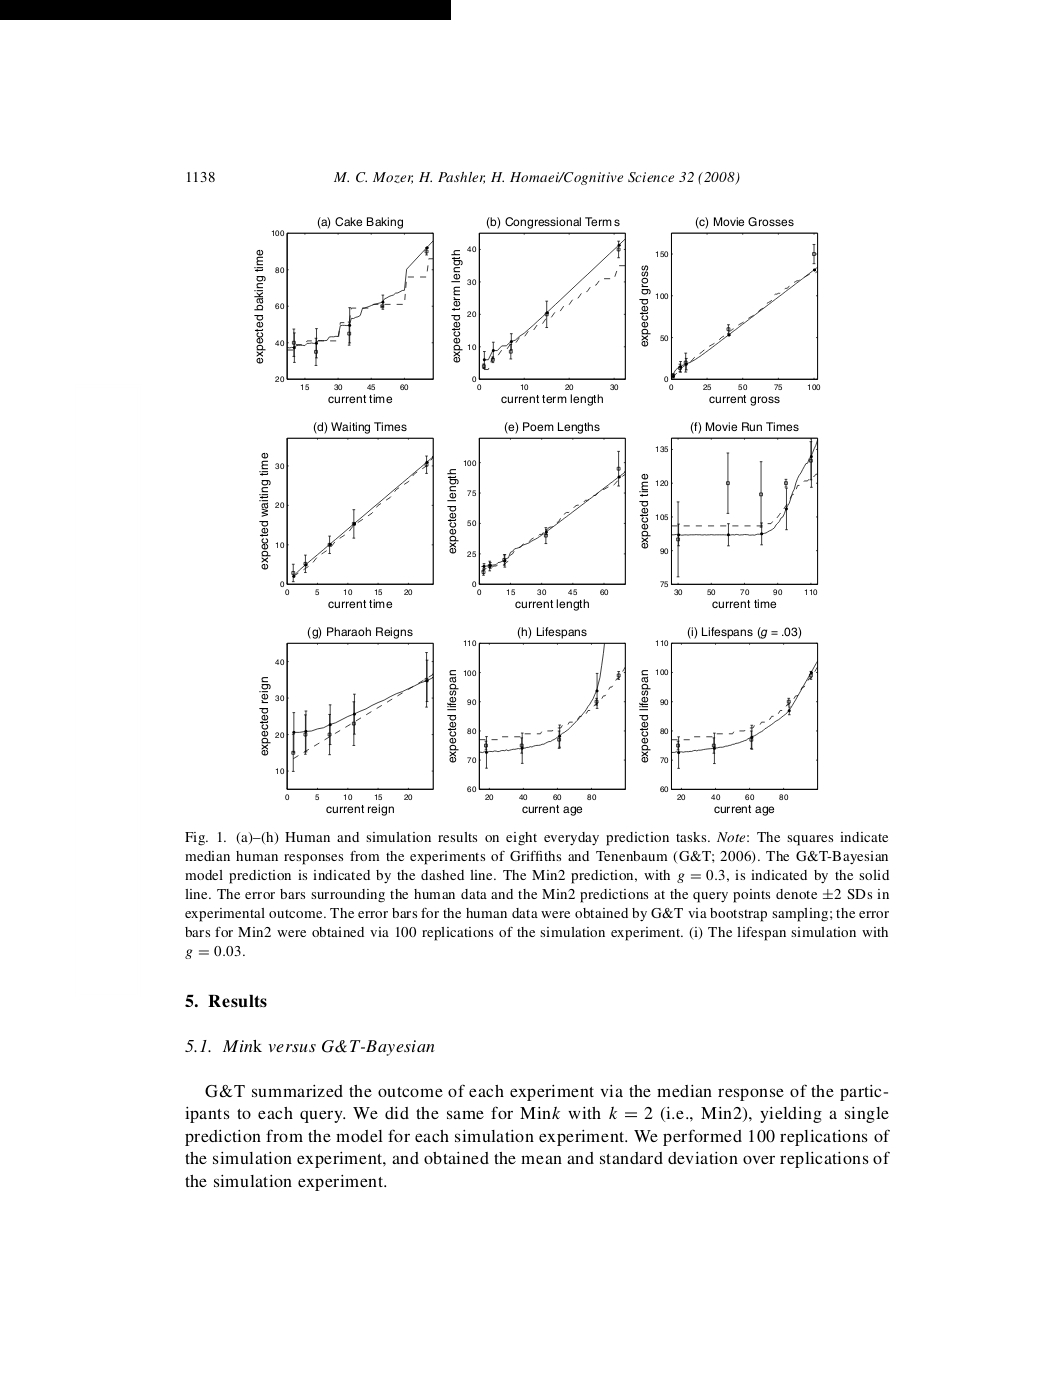figure: (639, 640, 818, 815), (447, 640, 625, 815), (639, 233, 820, 405), (254, 231, 434, 403), (447, 437, 625, 610), (639, 437, 818, 607), (259, 642, 434, 815), (451, 232, 625, 405), (259, 437, 434, 608)
